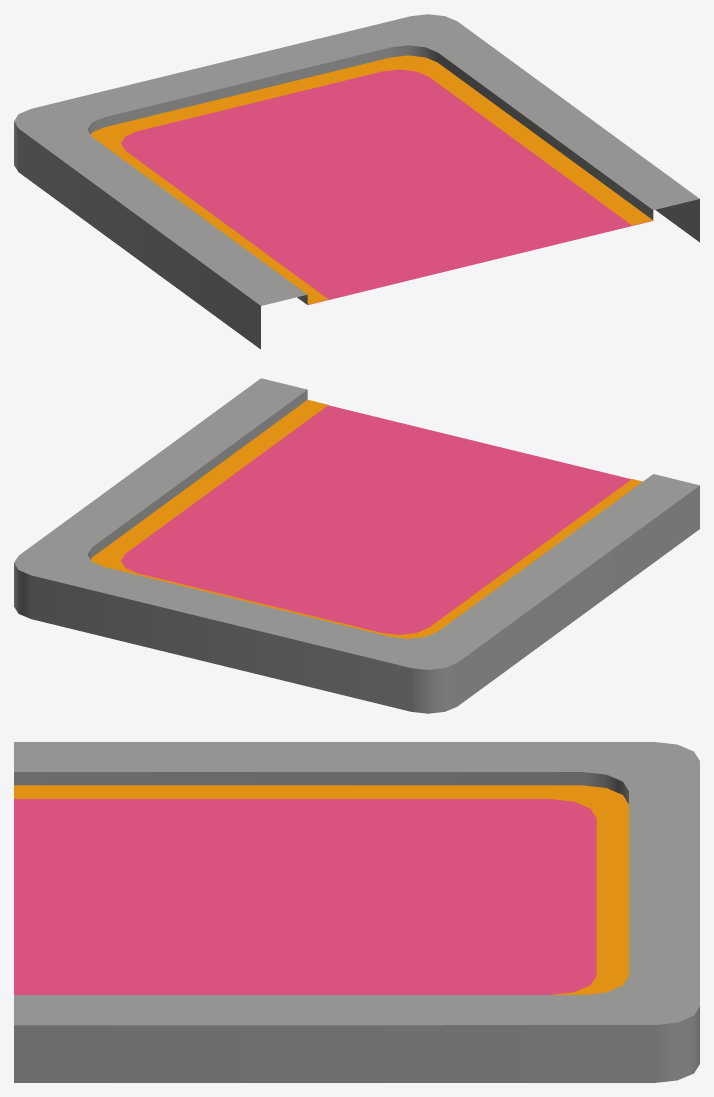
File: Road_B_16.fbx
The picture shows the model from 3 angles, top to bottom: view 1: azimuth 30°, elevation 25°; view 2: azimuth 150°, elevation 25°; view 3: azimuth 270°, elevation 25°; orthographic projection. The views are drawn at different scales.
Visible parts, largest first — view 1: Road_B_16; view 2: Road_B_16; view 3: Road_B_16.
Boxes of the visible parts, x1=… form: Road_B_16: x1=14, y1=14, x2=699, y2=349; Road_B_16: x1=14, y1=378, x2=699, y2=713; Road_B_16: x1=14, y1=742, x2=699, y2=1082.
Bounding box in the file's own units: 436 × 41.51 × 446.
